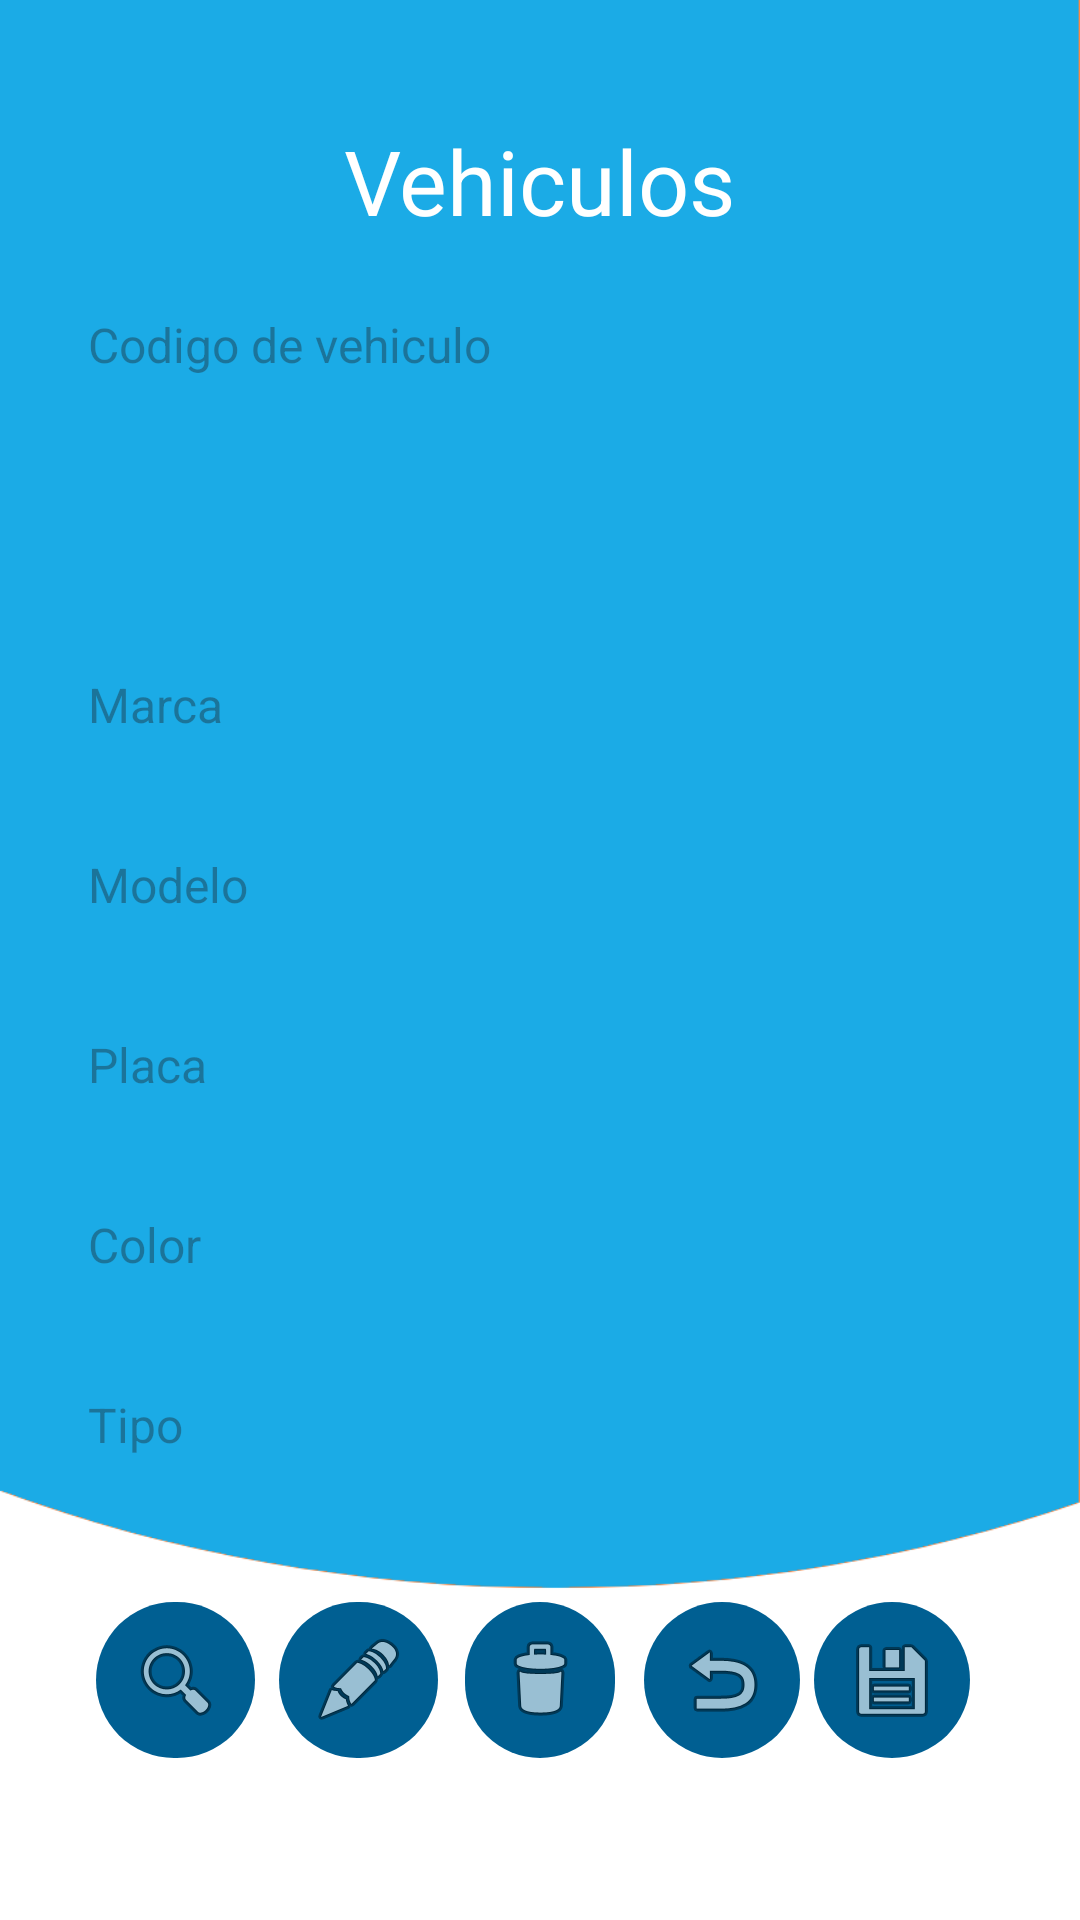

Named icons in this screenshot (1080px x 1920px) and their bounding boxes, (x1, y1, x2, y2):
delete: (465, 1602, 615, 1758)
edit: (279, 1602, 438, 1758)
revert: (644, 1602, 800, 1758)
save: (814, 1602, 970, 1758)
search: (96, 1602, 255, 1758)
